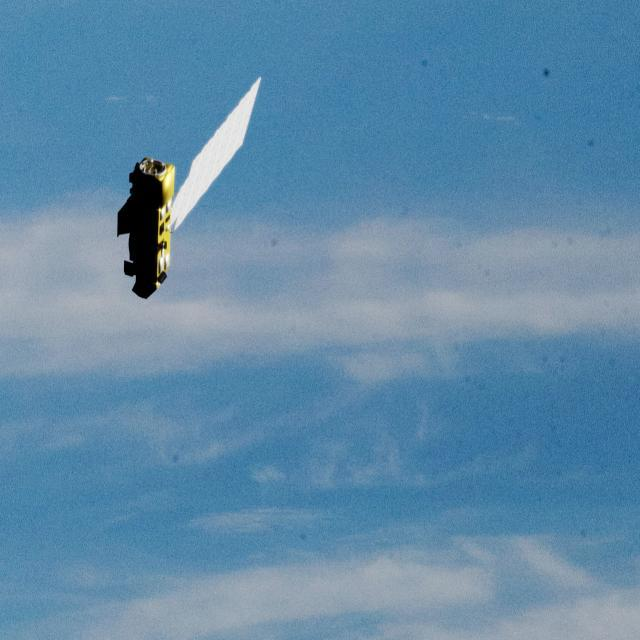medium_debris: (120, 78, 266, 302)
